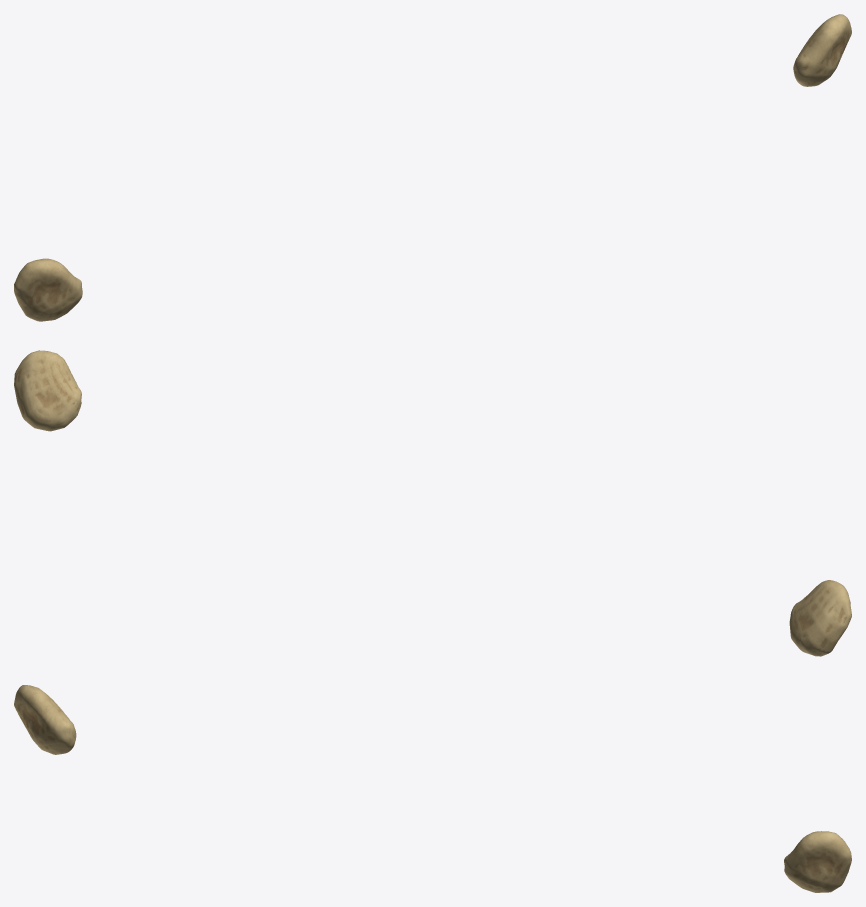
File: Unknown_Tibia.glb
3 renders of one model, top to bottom at view 1: azimuth 30°, elevation 25°; view 2: azimuth 150°, elevation 25°; view 3: azimuth 330°, elevation 25°, orthographic.
Visible parts, largest first — view 1: Group23680.001; view 2: Group23680.001; view 3: Group23680.001.
Part boxes in pixels (bbox=[...]): Group23680.001: bbox=[14, 14, 851, 321]; Group23680.001: bbox=[14, 350, 851, 656]; Group23680.001: bbox=[14, 685, 851, 892].
Size of the model in its own units: 326 by 41.89 by 21.02.
1 material, 1 textured.
